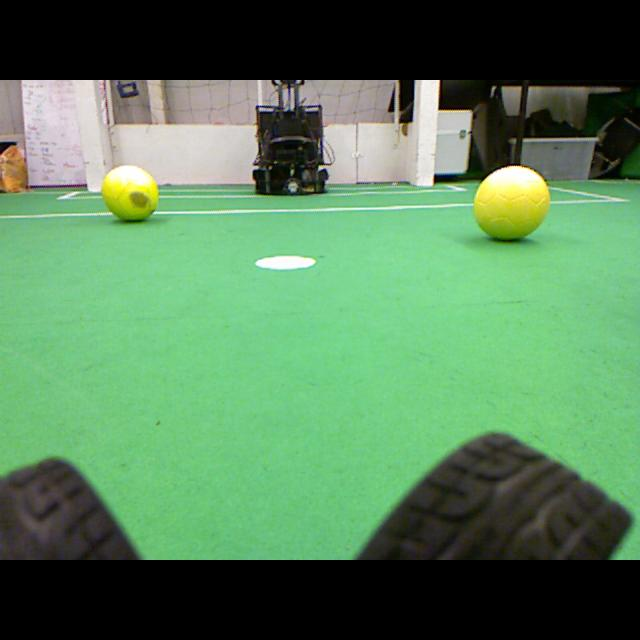ball: (474, 166, 549, 239), (102, 165, 159, 221)
goal: (77, 80, 105, 192), (417, 80, 440, 186)
robot: (252, 80, 332, 196)
